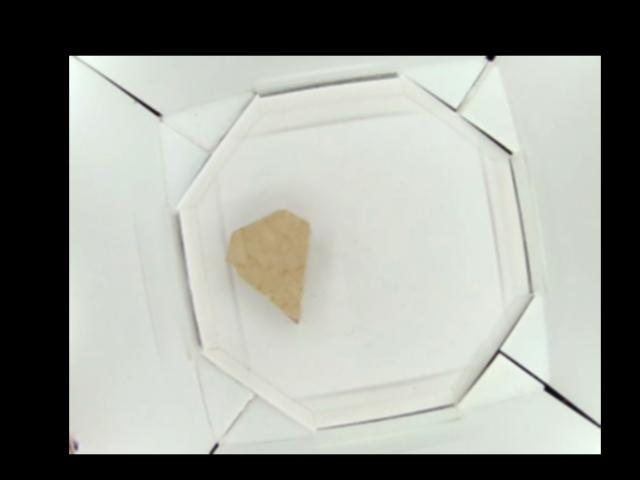China: (223, 207, 312, 323)
